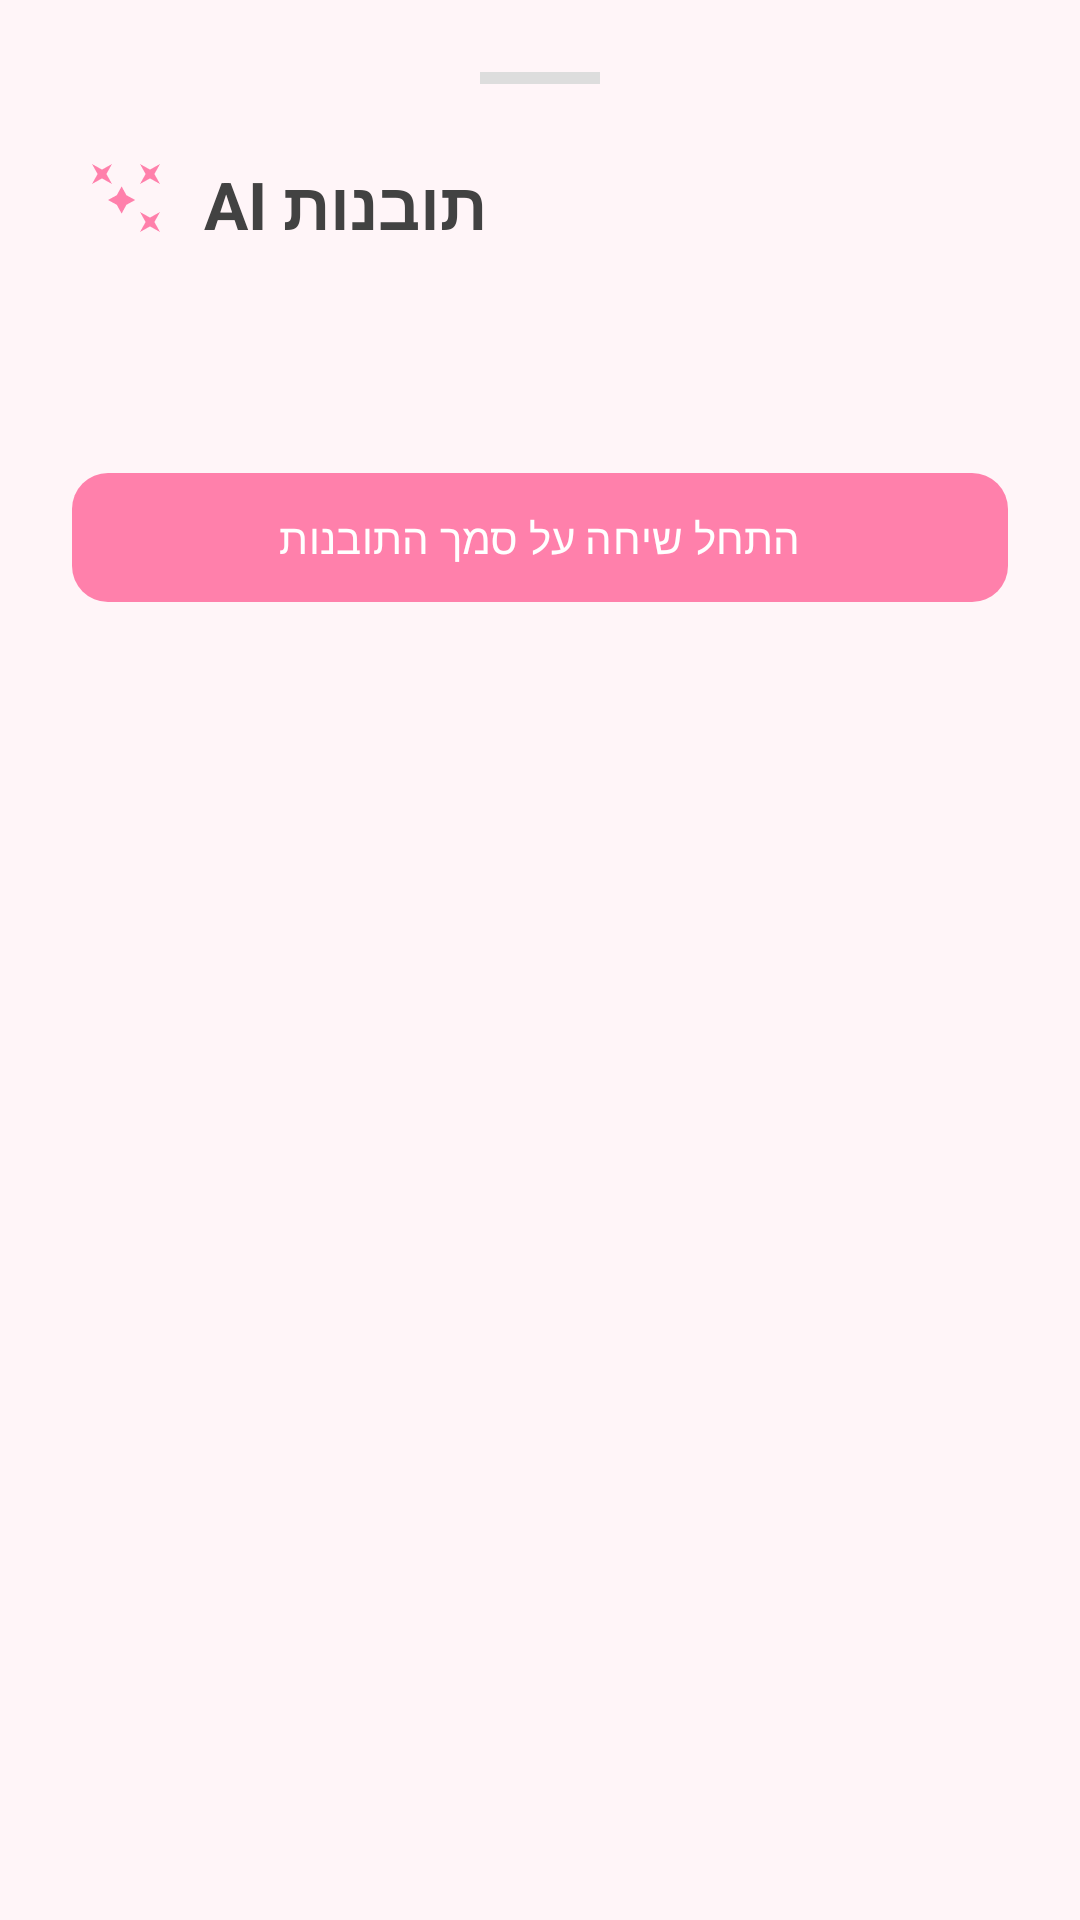

Named icons in this screenshot (1080px x 1920px) and their centers, (x=x, y=y):
sparkles: (x=126, y=198)
